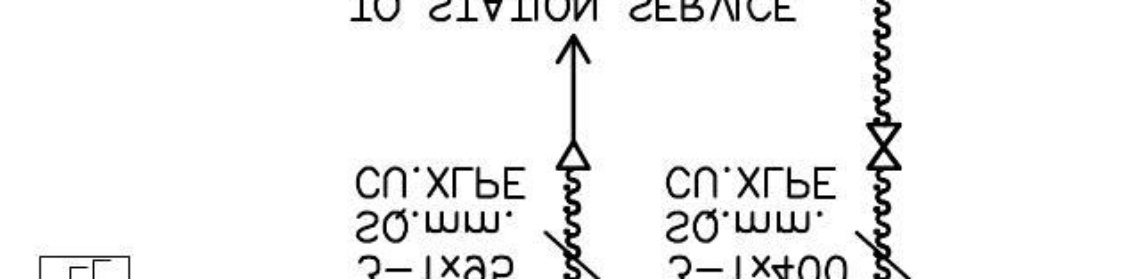terminator_single: (554, 138, 595, 173)
terminator_splicing_kits: (865, 121, 902, 171)
